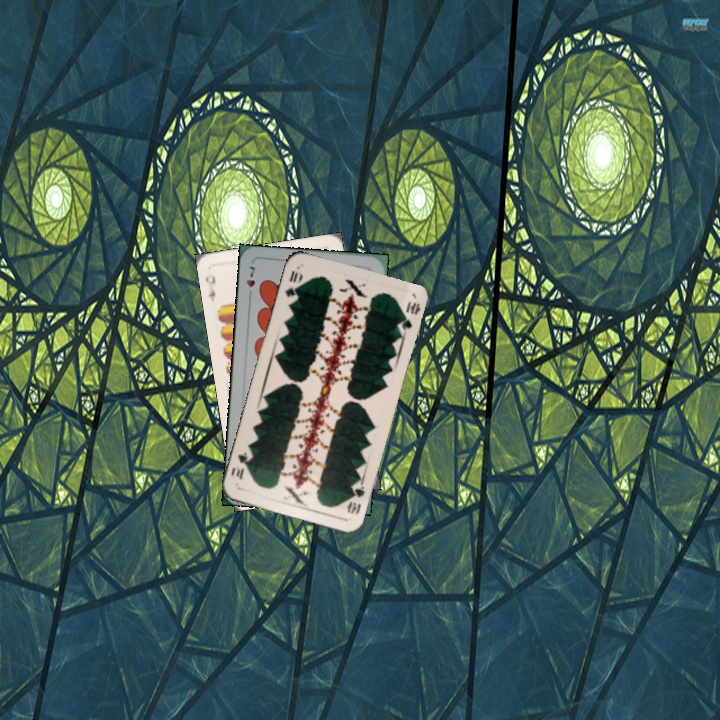E9: (201, 272, 218, 304)
G10: (343, 478, 367, 516), (281, 267, 305, 300)
H7: (243, 262, 258, 301)
